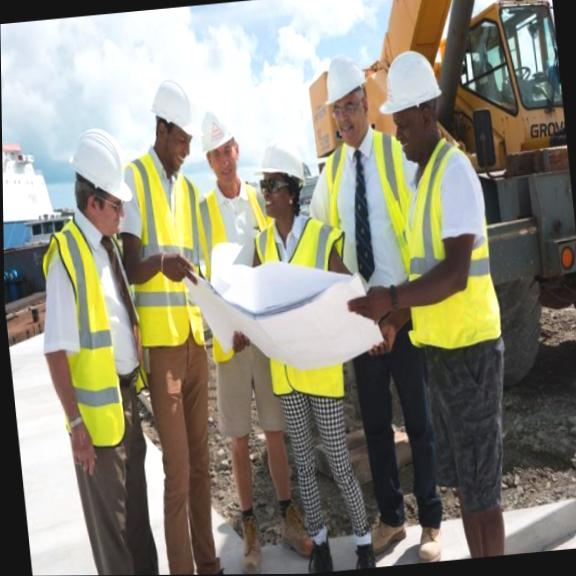safety_vest: (38, 212, 169, 459), (397, 154, 510, 388), (118, 147, 221, 372)
